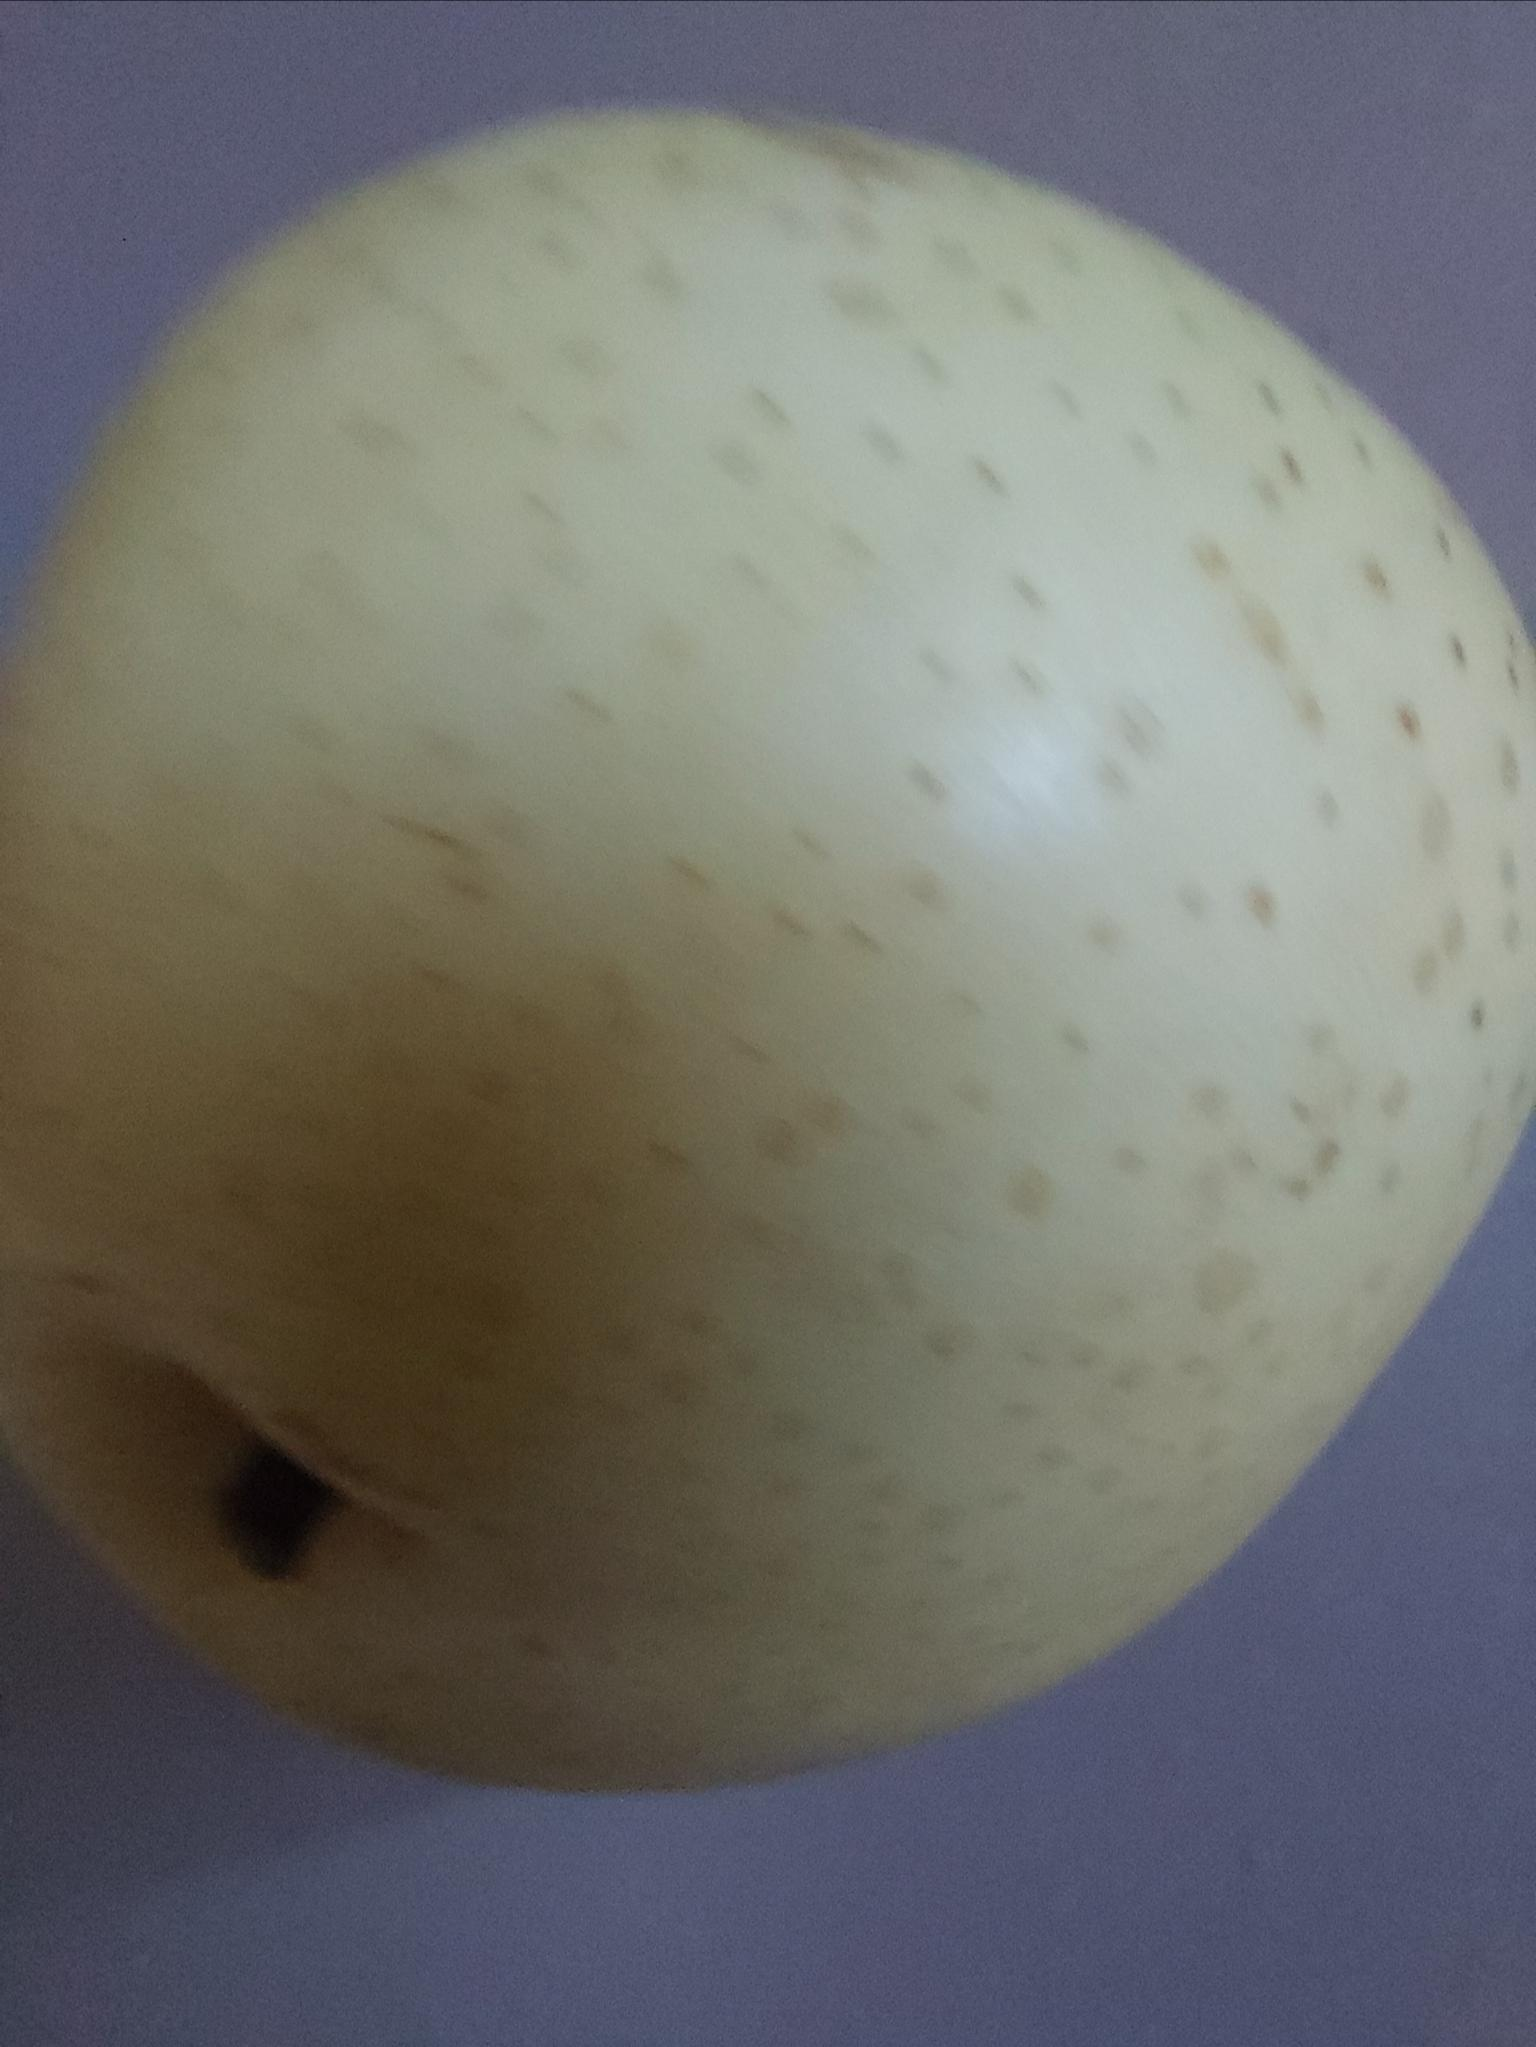Good Pear: (0, 97, 1536, 1797)
